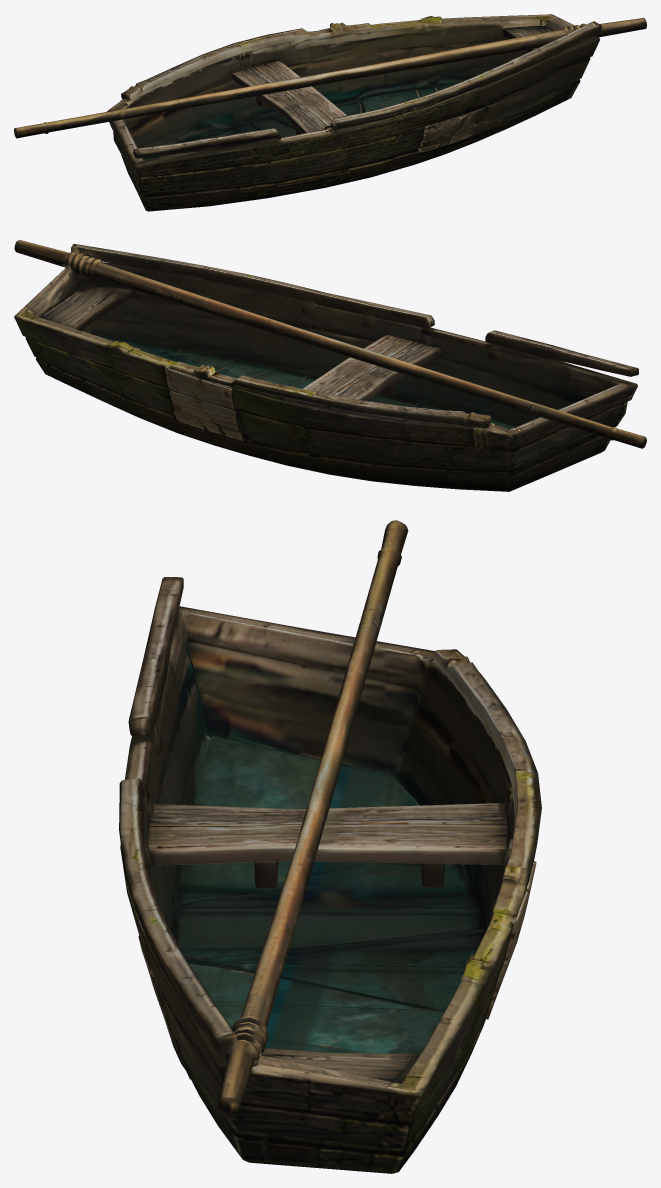
Rendered from act1_kit_v1_fen_punt.glb.
3 renders of one model, top to bottom at view 1: azimuth 30°, elevation 25°; view 2: azimuth 150°, elevation 25°; view 3: azimuth 270°, elevation 25°, orthographic. The views are drawn at different scales.
Visible parts, largest first — view 1: act1_kit_v1_fen_punt; view 2: act1_kit_v1_fen_punt; view 3: act1_kit_v1_fen_punt.
Part boxes in pixels (x1=…): act1_kit_v1_fen_punt: x1=14, y1=14, x2=646, y2=211; act1_kit_v1_fen_punt: x1=14, y1=240, x2=646, y2=491; act1_kit_v1_fen_punt: x1=119, y1=520, x2=541, y2=1173.
Size of the model in its own units: 1 by 0.139 by 0.3117.
1 material, 1 textured.
